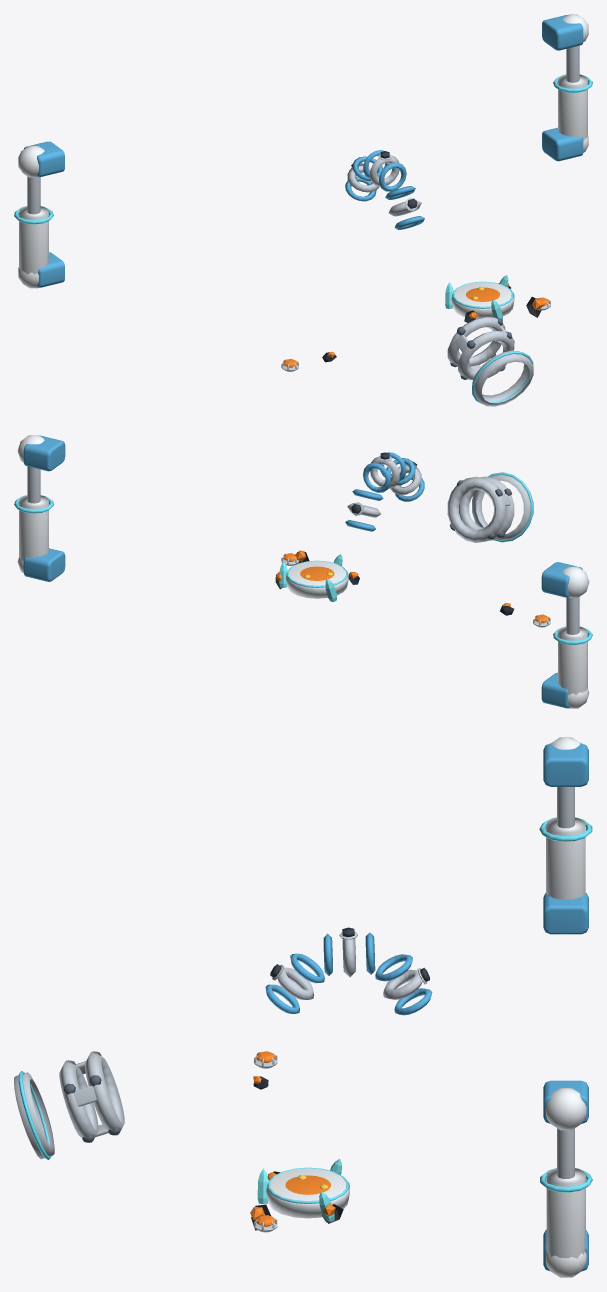
The model's file is LavaPump_T3_Upgrades.fbx.
3 renders of one model, top to bottom at view 1: azimuth 30°, elevation 25°; view 2: azimuth 150°, elevation 25°; view 3: azimuth 270°, elevation 25°, orthographic. The views are drawn at different scales.
Visible parts, largest first — view 1: LavaPumpT3U3Piston2, LavaPumpT3U3Piston1, LavaPumpT3U1Reinforce, LavaPumpT3U1ClampsGlow, LavaPumpT3U1Clamps, LavaPumpT3U5Fountain, LavaPumpT3U5FountainGlow; view 2: LavaPumpT3U3Piston2, LavaPumpT3U3Piston1, LavaPumpT3U1Reinforce, LavaPumpT3U1ClampsGlow, LavaPumpT3U5Fountain, LavaPumpT3U1Clamps, LavaPumpT3U5FountainGlow, LavaPumpT3U1ReinforceGlow; view 3: LavaPumpT3U3Piston1, LavaPumpT3U3Piston2, LavaPumpT3U1Reinforce, LavaPumpT3U1ClampsGlow, LavaPumpT3U1Clamps, LavaPumpT3U5Fountain, LavaPumpT3U5FountainGlow.
Part boxes in pixels (x1,y1,x2,y2): LavaPumpT3U3Piston2: (542,14,588,161); LavaPumpT3U3Piston1: (18,141,64,288); LavaPumpT3U1Reinforce: (447,317,533,406); LavaPumpT3U1ClampsGlow: (345,150,424,229); LavaPumpT3U1Clamps: (347,151,421,216); LavaPumpT3U5Fountain: (451,282,514,319); LavaPumpT3U5FountainGlow: (445,275,513,320); LavaPumpT3U3Piston2: (17,435,65,581); LavaPumpT3U3Piston1: (541,562,589,708); LavaPumpT3U1Reinforce: (447,474,533,542); LavaPumpT3U1ClampsGlow: (345,452,424,531); LavaPumpT3U5Fountain: (286,561,348,598); LavaPumpT3U1Clamps: (347,452,421,517); LavaPumpT3U5FountainGlow: (279,554,347,601); LavaPumpT3U1ReinforceGlow: (472,472,532,542); LavaPumpT3U3Piston1: (543,737,588,934); LavaPumpT3U3Piston2: (543,1080,588,1277); LavaPumpT3U1Reinforce: (14,1051,124,1159); LavaPumpT3U1ClampsGlow: (265,932,432,1015); LavaPumpT3U1Clamps: (270,927,429,999); LavaPumpT3U5Fountain: (266,1168,349,1218); LavaPumpT3U5FountainGlow: (257,1159,349,1222).
Size of the model in its own units: 467 by 141 by 306.
